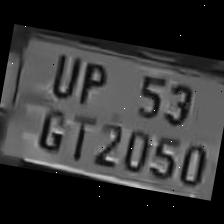0: (172, 135, 210, 190), (116, 122, 152, 175)
2: (86, 114, 125, 170)
3: (158, 74, 196, 127)
5: (130, 68, 168, 120), (146, 128, 182, 181)
G: (30, 98, 71, 155)
P: (71, 53, 111, 109)
T: (62, 108, 95, 163)
U: (44, 46, 82, 102)
